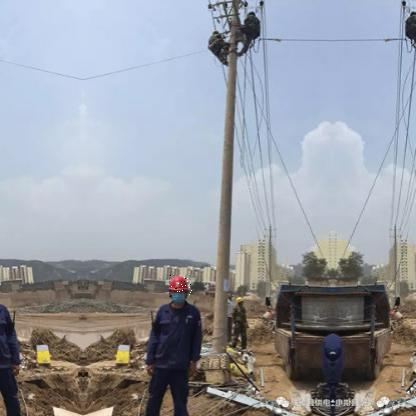safetyhelmet: (170, 275, 194, 296)
